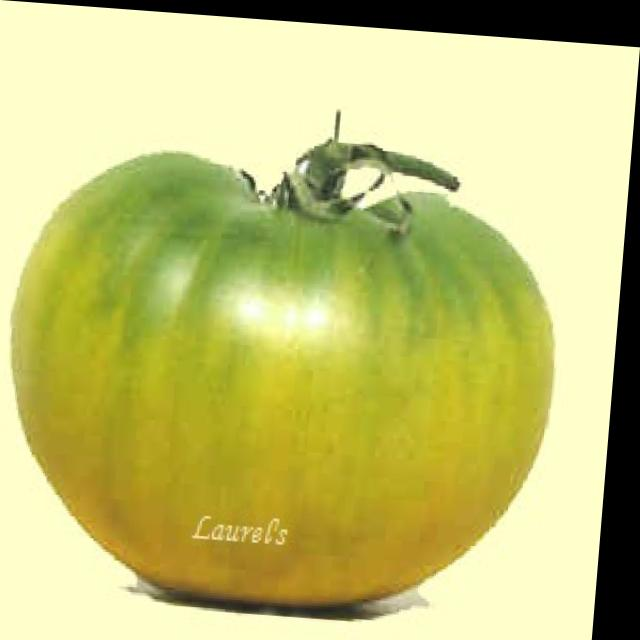yesil: (1, 78, 579, 636)
